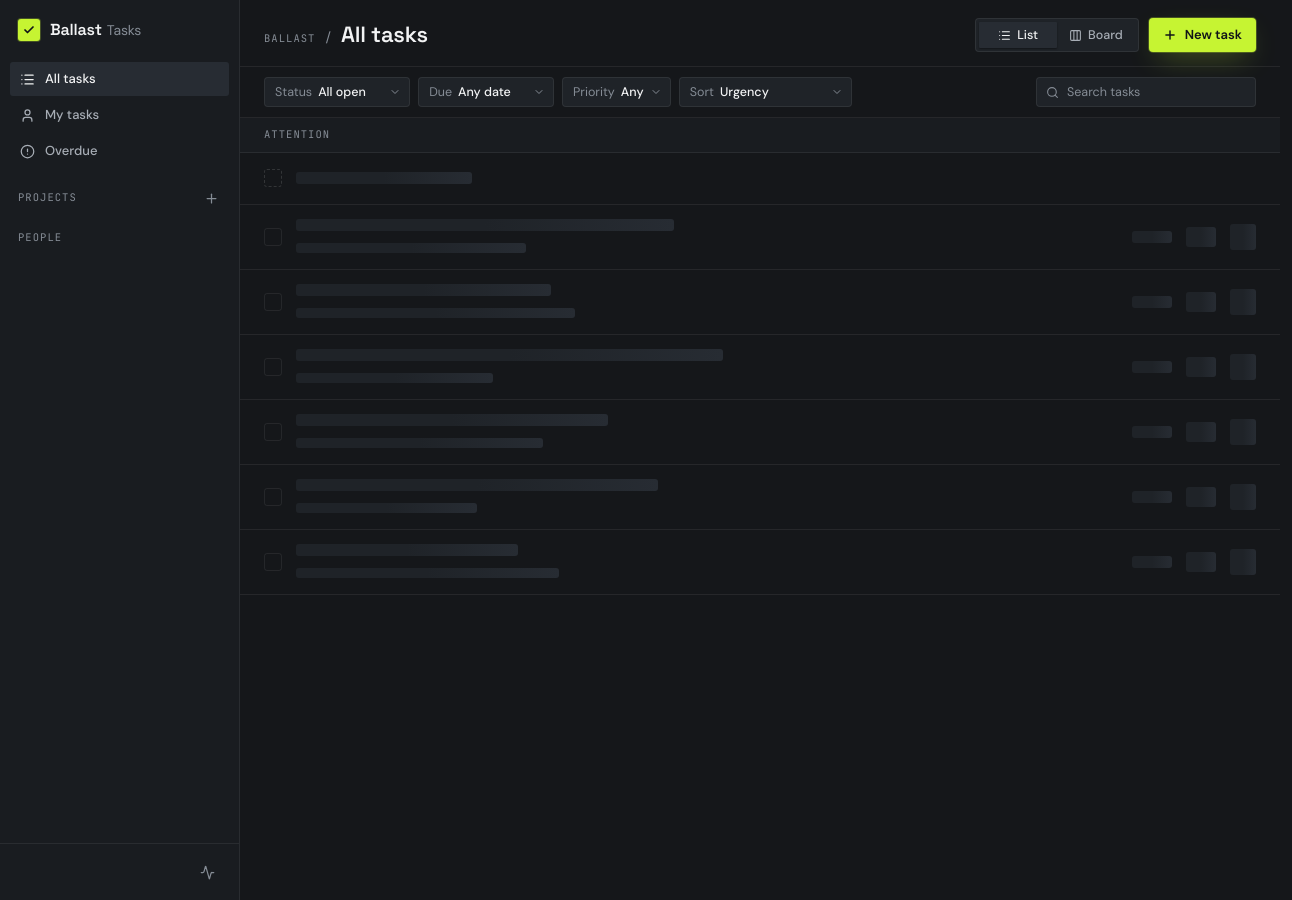
Test: card › shows project, priority, title, due label, step progress, attachments and the assignee
Click the radio button "Board".
click(1096, 35)  # box [1069,27,1123,43]
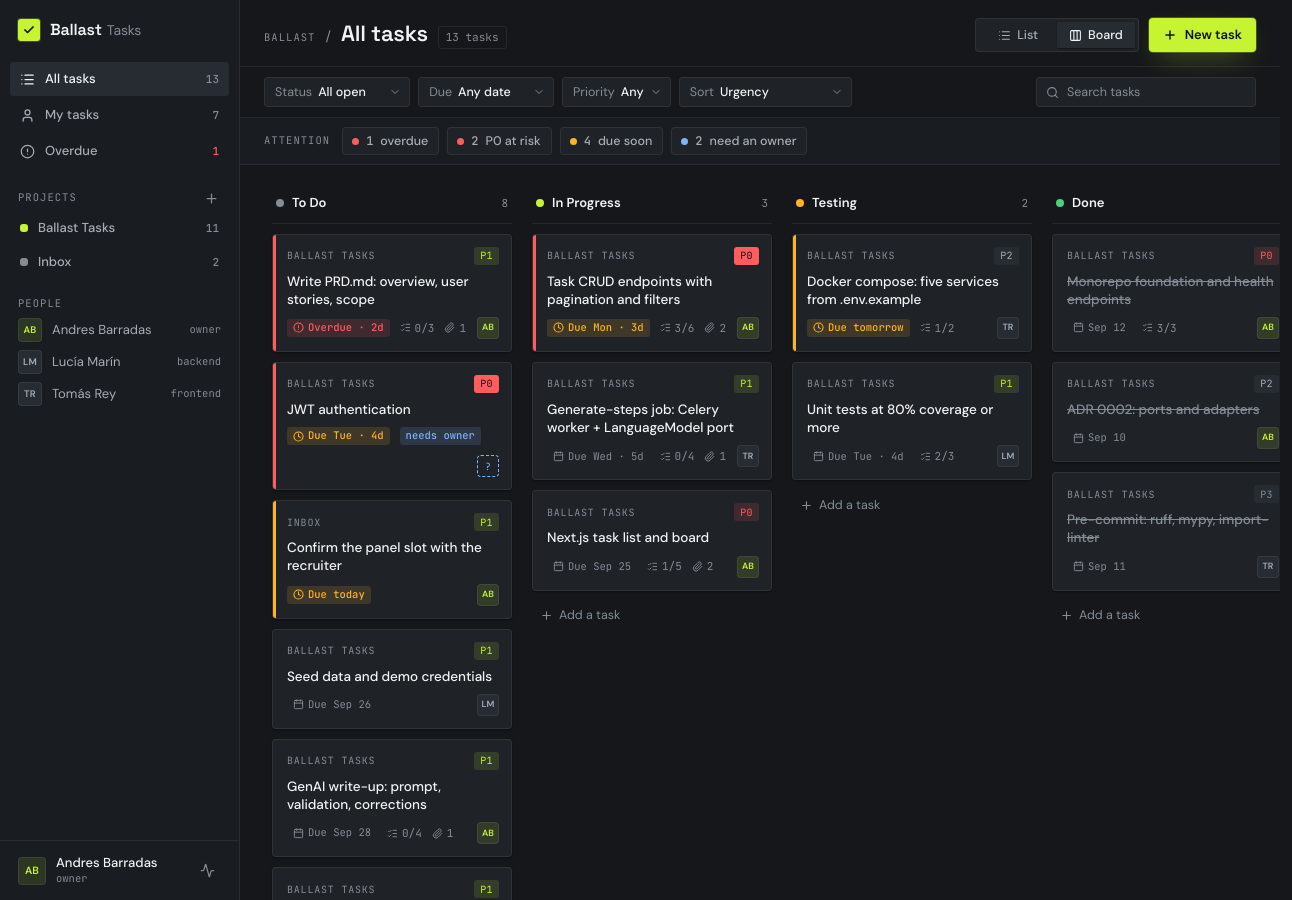
Check: the 3rd text "Ballast Tasks" is shown, box [547,248,635,263]
Check: the 1st text "P0" is shown, box [734,246,759,264]
Check: the text "Due Mon · 3d" is shown, box [547,319,650,337]
